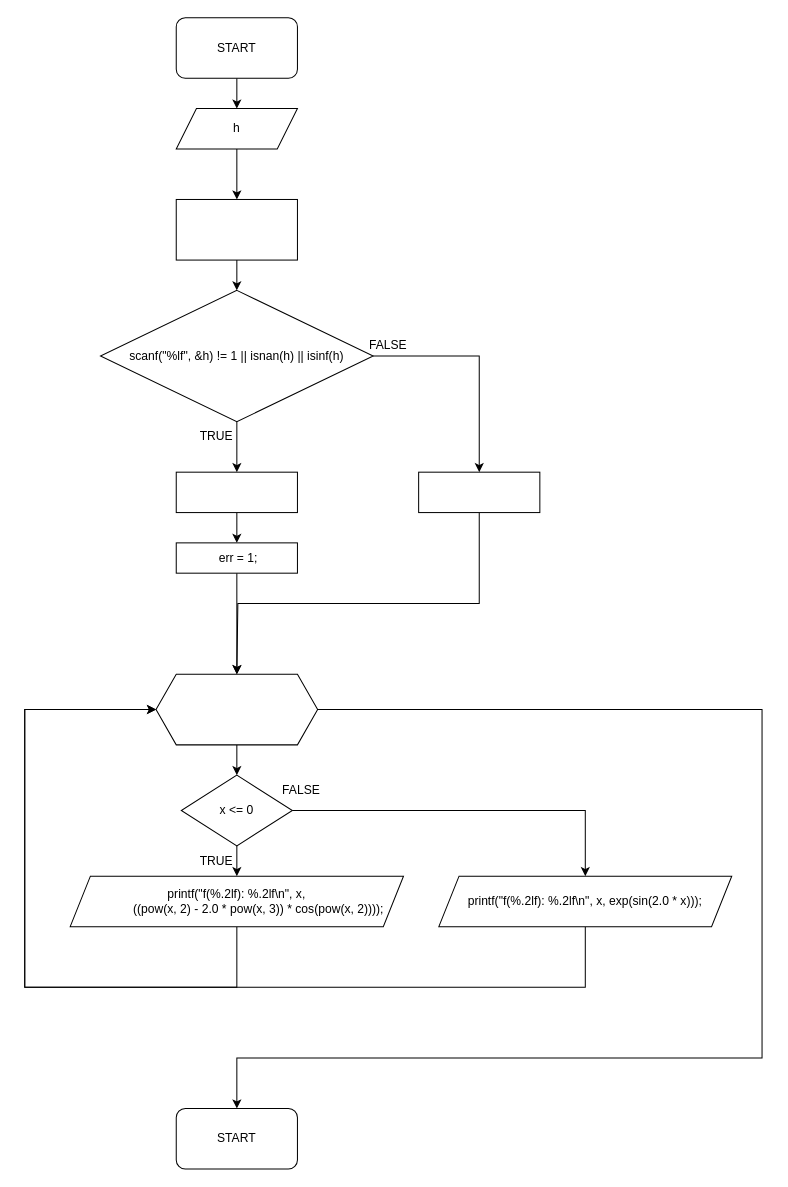
Image size: 788x1187. Some labels were removed from this diagram. The shapes that lost their labels are listed below. From the top down, each one's box as (x1, y1, x2, y2) in pixels, then its label:
(175, 198, 297, 260): err = 0 x = 0.0
(175, 471, 297, 513): printf("h is not corect!\n");
(418, 471, 540, 513): printf("h: %lf\n", h);
(155, 673, 318, 745): ; (x - 1.5 < EXP && x + 1.5 > EXP) && !err; x += h
